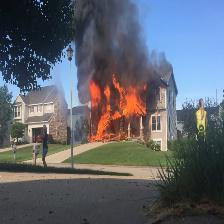fire: (86, 69, 151, 145)
